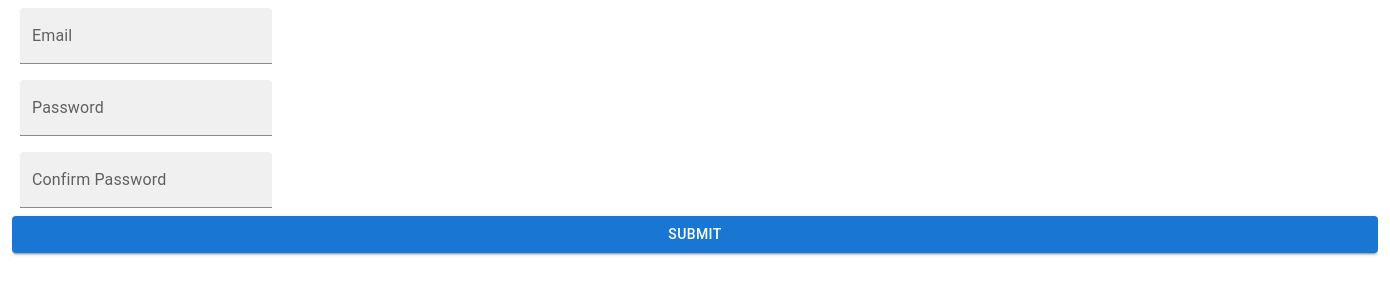
Scenario: Sign up form tests › should show submitted when user submits form
Expected: the text "submitted" is not shown
Type "hello@email.com" into the field labelled "Email" at coordinates (146, 36), box top-left (20, 8), bottom-right (272, 64)
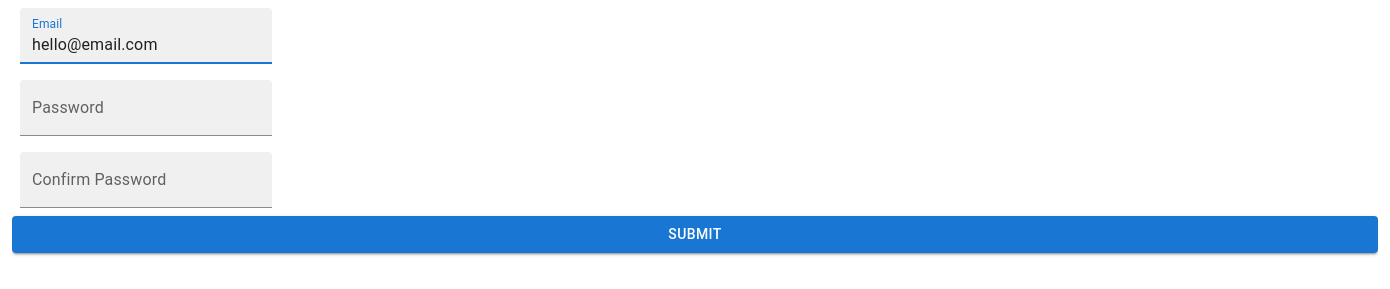
Type "this-is-my-password" into the password field labelled "Password" at coordinates (146, 108), box top-left (20, 80), bottom-right (272, 136)
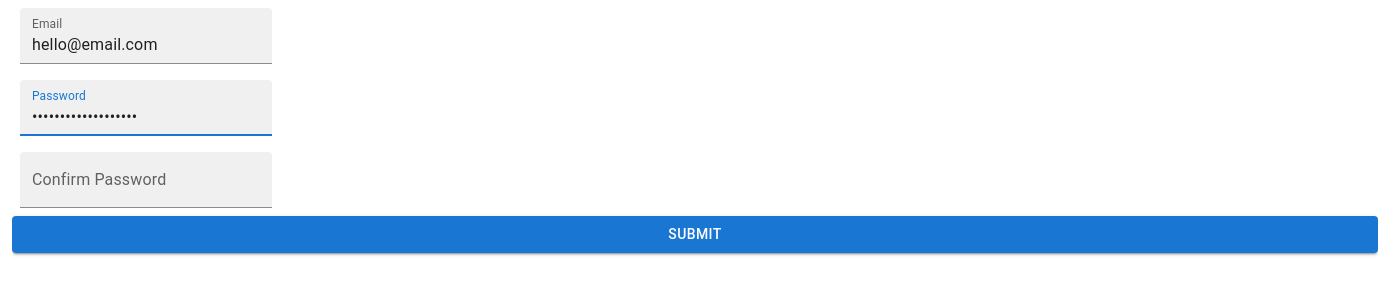
Type "this-is-my-password" into the password field labelled "Confirm Password" at coordinates (146, 180), box top-left (20, 152), bottom-right (272, 208)
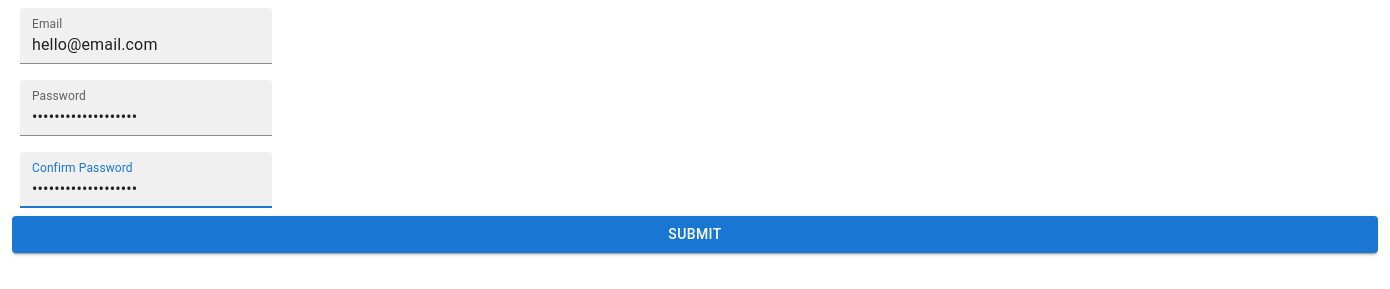
Click the button "Submit" at coordinates (695, 234), box top-left (12, 216), bottom-right (1378, 252)
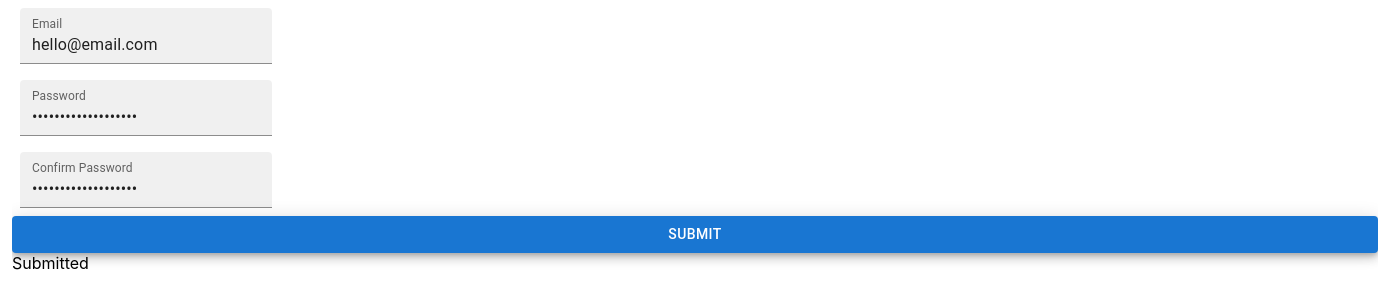
Result: the text "Submitted" is shown at top-left (12, 252), bottom-right (89, 272)
